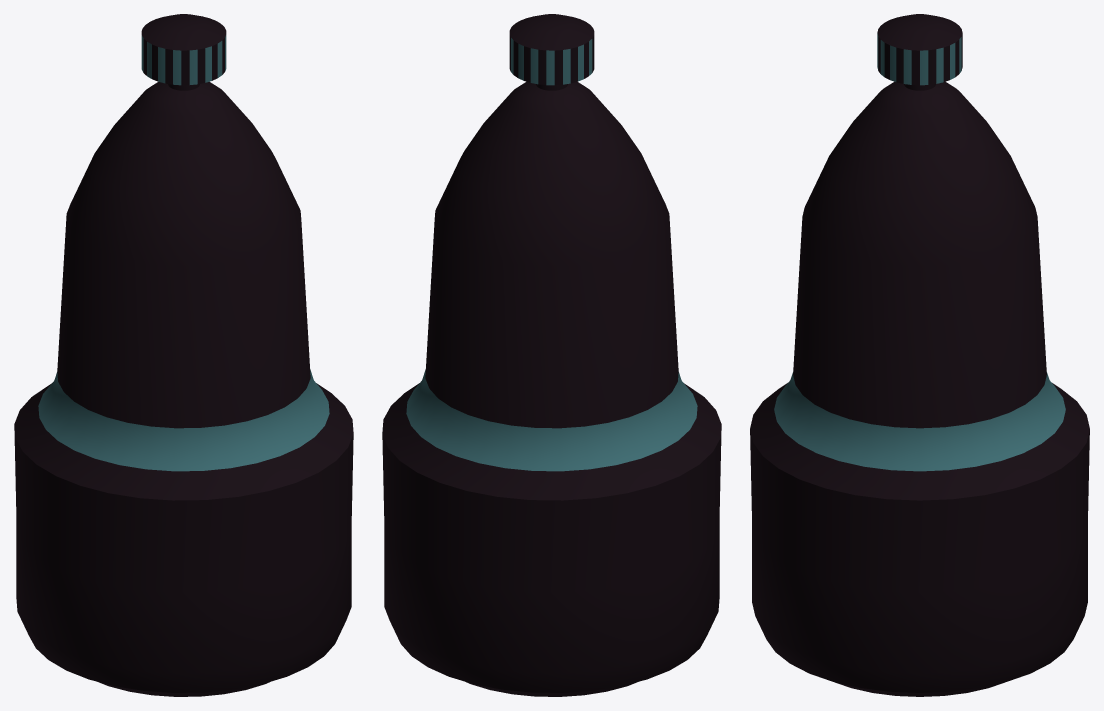
File: bottle35.glb
The picture shows the model from 3 angles, left to right: view 1: azimuth 30°, elevation 25°; view 2: azimuth 150°, elevation 25°; view 3: azimuth 270°, elevation 25°; orthographic projection.
Parts seen in each view (by area): view 1: Bottle35; view 2: Bottle35; view 3: Bottle35.
Boxes of the visible parts, x1,y1,x2,y2 form: Bottle35: (14,14,353,696); Bottle35: (382,14,721,696); Bottle35: (750,14,1089,696).
Bounding box in the file's own units: 1.44 × 2.92 × 1.44.
